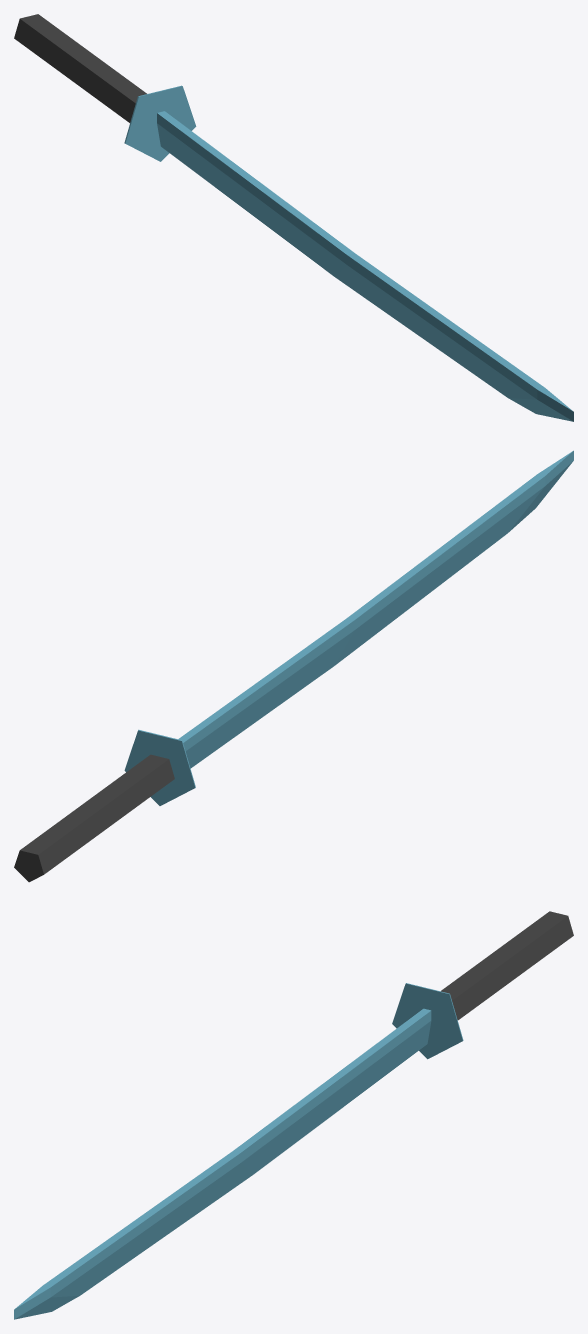
Rendered from Katana.fbx.
The picture shows the model from 3 angles, top to bottom: view 1: azimuth 30°, elevation 25°; view 2: azimuth 150°, elevation 25°; view 3: azimuth 330°, elevation 25°; orthographic projection.
Parts seen in each view (by area): view 1: Cube; view 2: Cube; view 3: Cube.
Part boxes in pixels (box(x1,y1,x2,y2)): Cube: box(14, 14, 573, 421); Cube: box(14, 450, 573, 882); Cube: box(14, 911, 573, 1319).
Bounding box in the file's own units: 431 × 409 × 5719.
